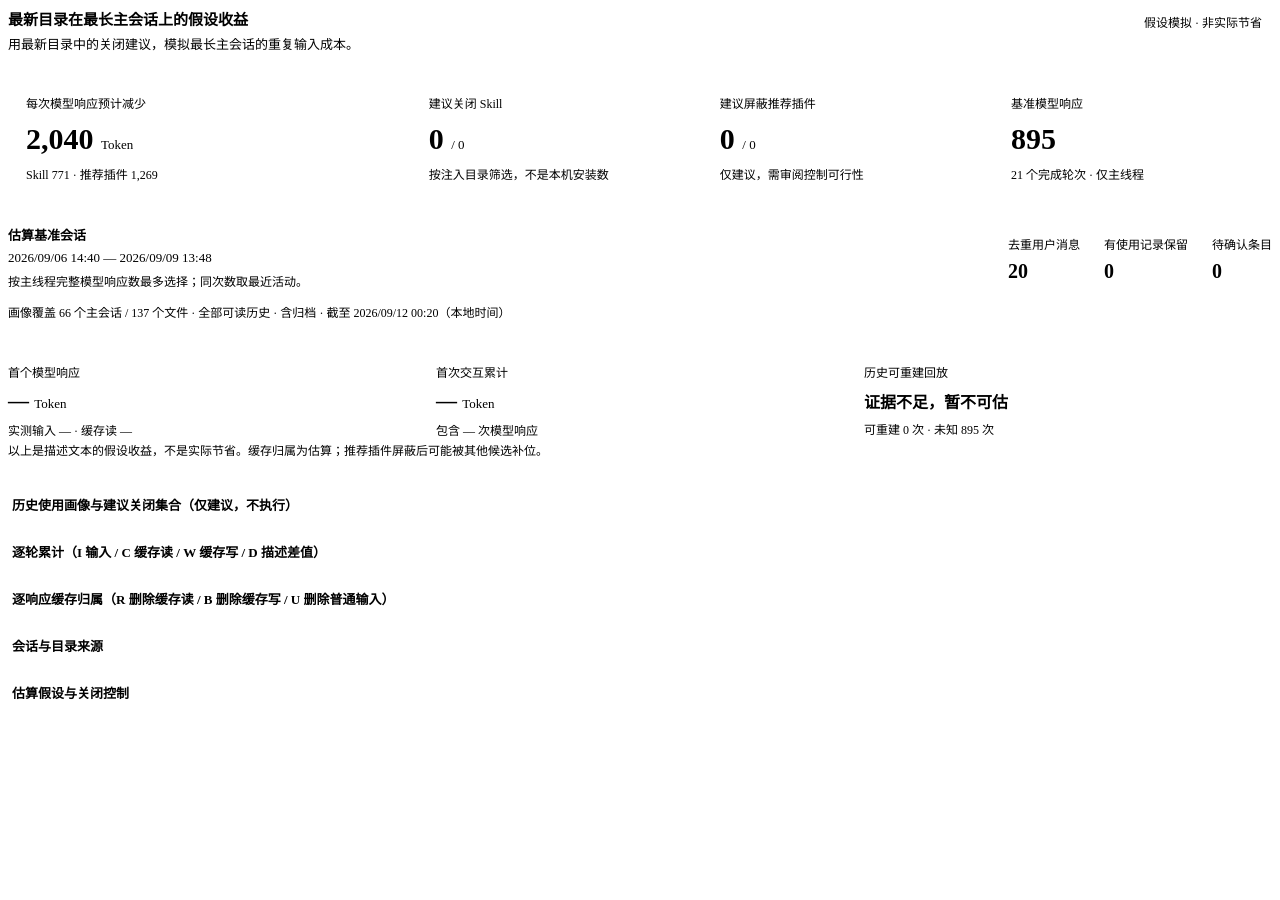
HistoryBenefitSummary › shows scannable summary metrics and keeps technical evidence collapsed
Expected: the text "每次模型响应预计减少" is shown, [26,97,146,111]
Expected: the text "全部可读历史" is shown, [198,306,270,320]
Click the heading "会话与目录来源".
click(58, 647)  # box [12,639,103,654]
(page scrolled)
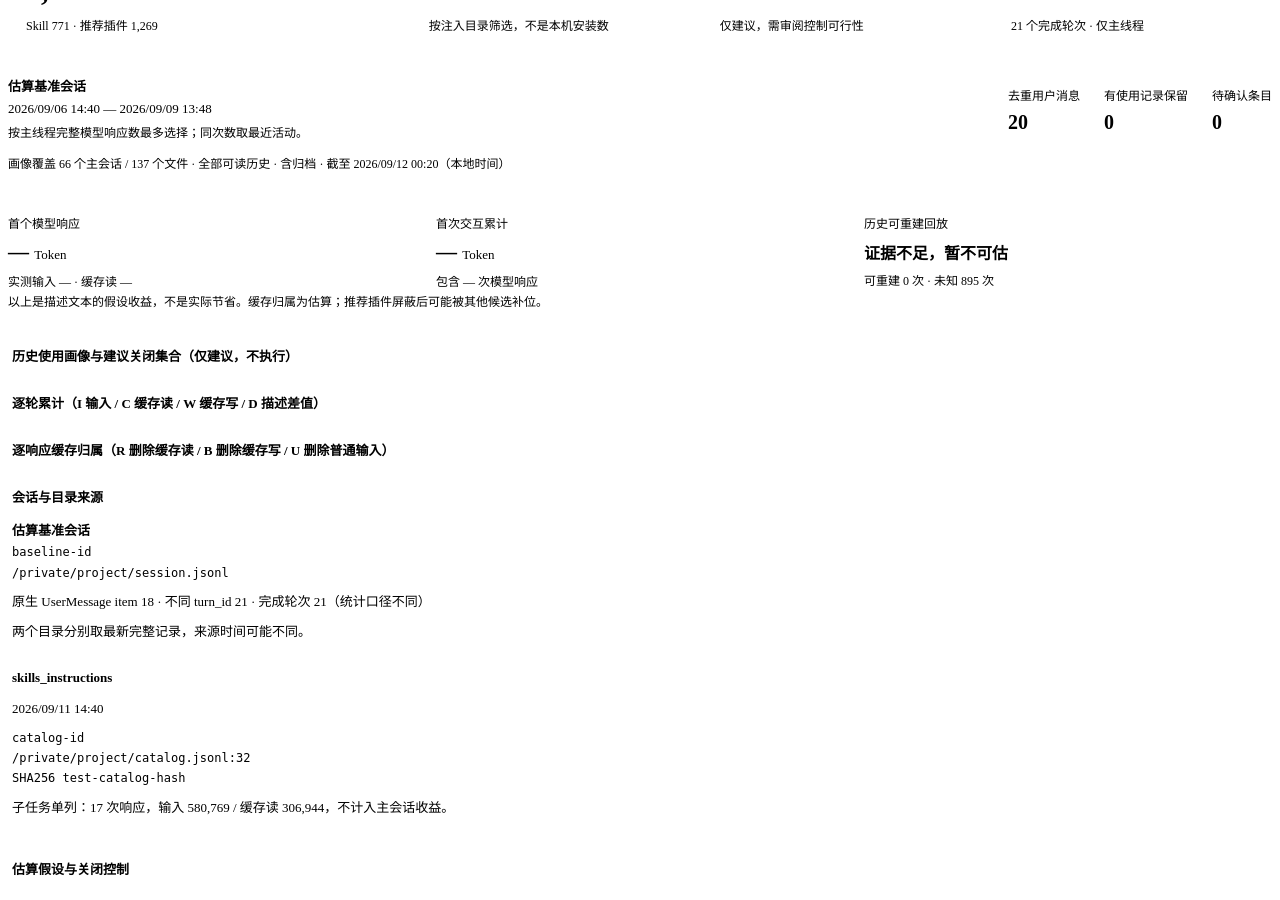
Now the text "SHA256 test-catalog-hash" is shown, box [12,771,185,785]
